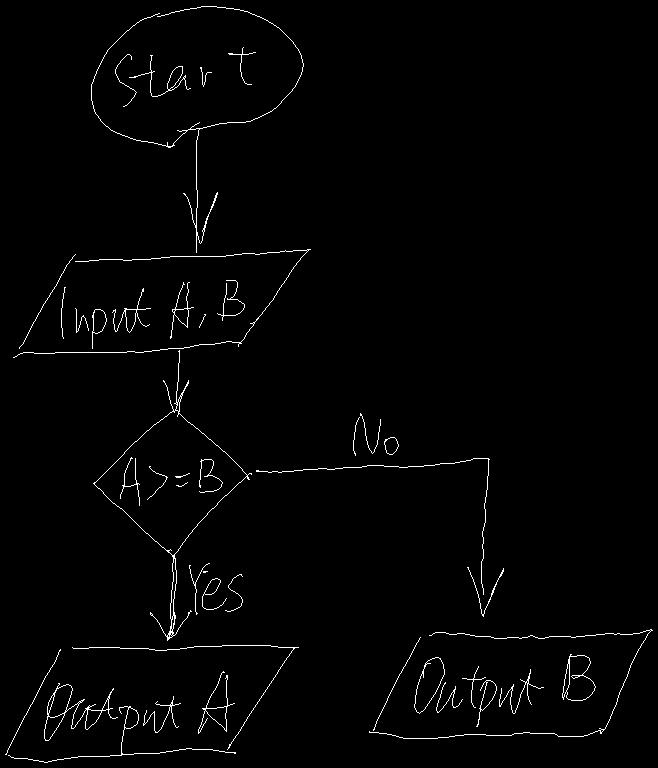arrow: (256, 458, 503, 616), (183, 128, 217, 252), (150, 554, 191, 640), (163, 350, 188, 416)
data: (5, 645, 298, 762), (13, 249, 310, 357), (369, 629, 652, 738)
decision: (93, 410, 251, 558)
terminator: (91, 6, 303, 147)
text: (44, 671, 234, 755), (414, 654, 595, 726), (61, 280, 244, 348), (115, 47, 255, 106), (120, 457, 222, 505), (189, 563, 242, 614), (353, 413, 398, 455)
